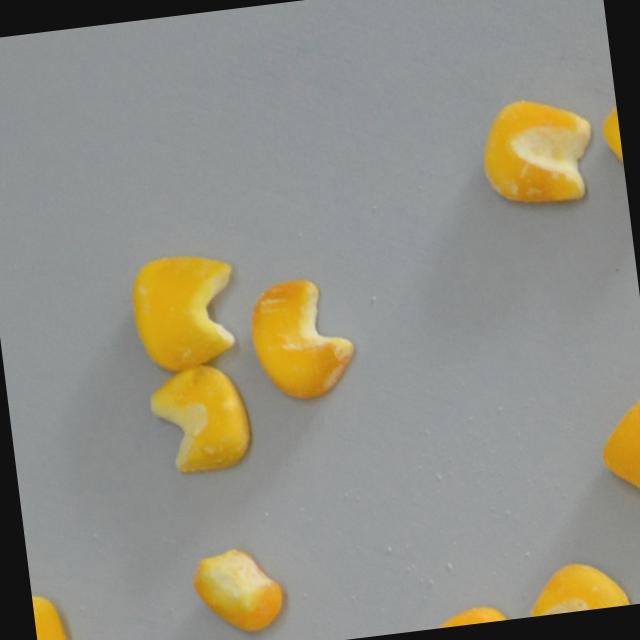no_canjicado: (126, 248, 240, 375), (144, 359, 254, 478), (188, 543, 287, 639), (593, 388, 640, 509), (593, 70, 626, 189), (429, 602, 512, 629), (31, 590, 73, 640)
pelicula: (244, 272, 359, 406), (474, 90, 598, 210), (525, 554, 632, 617)
